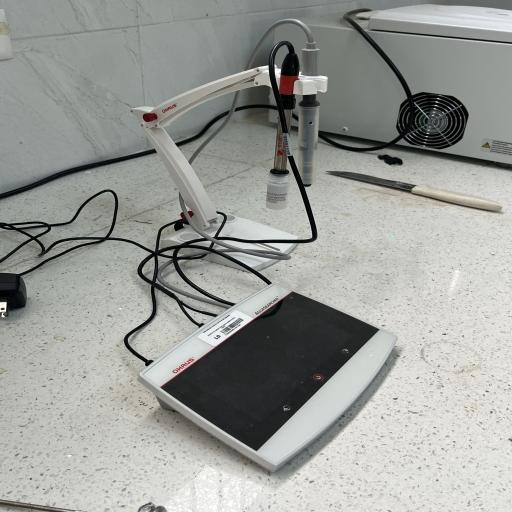Phmetro_Ohaus: (130, 278, 418, 474)
